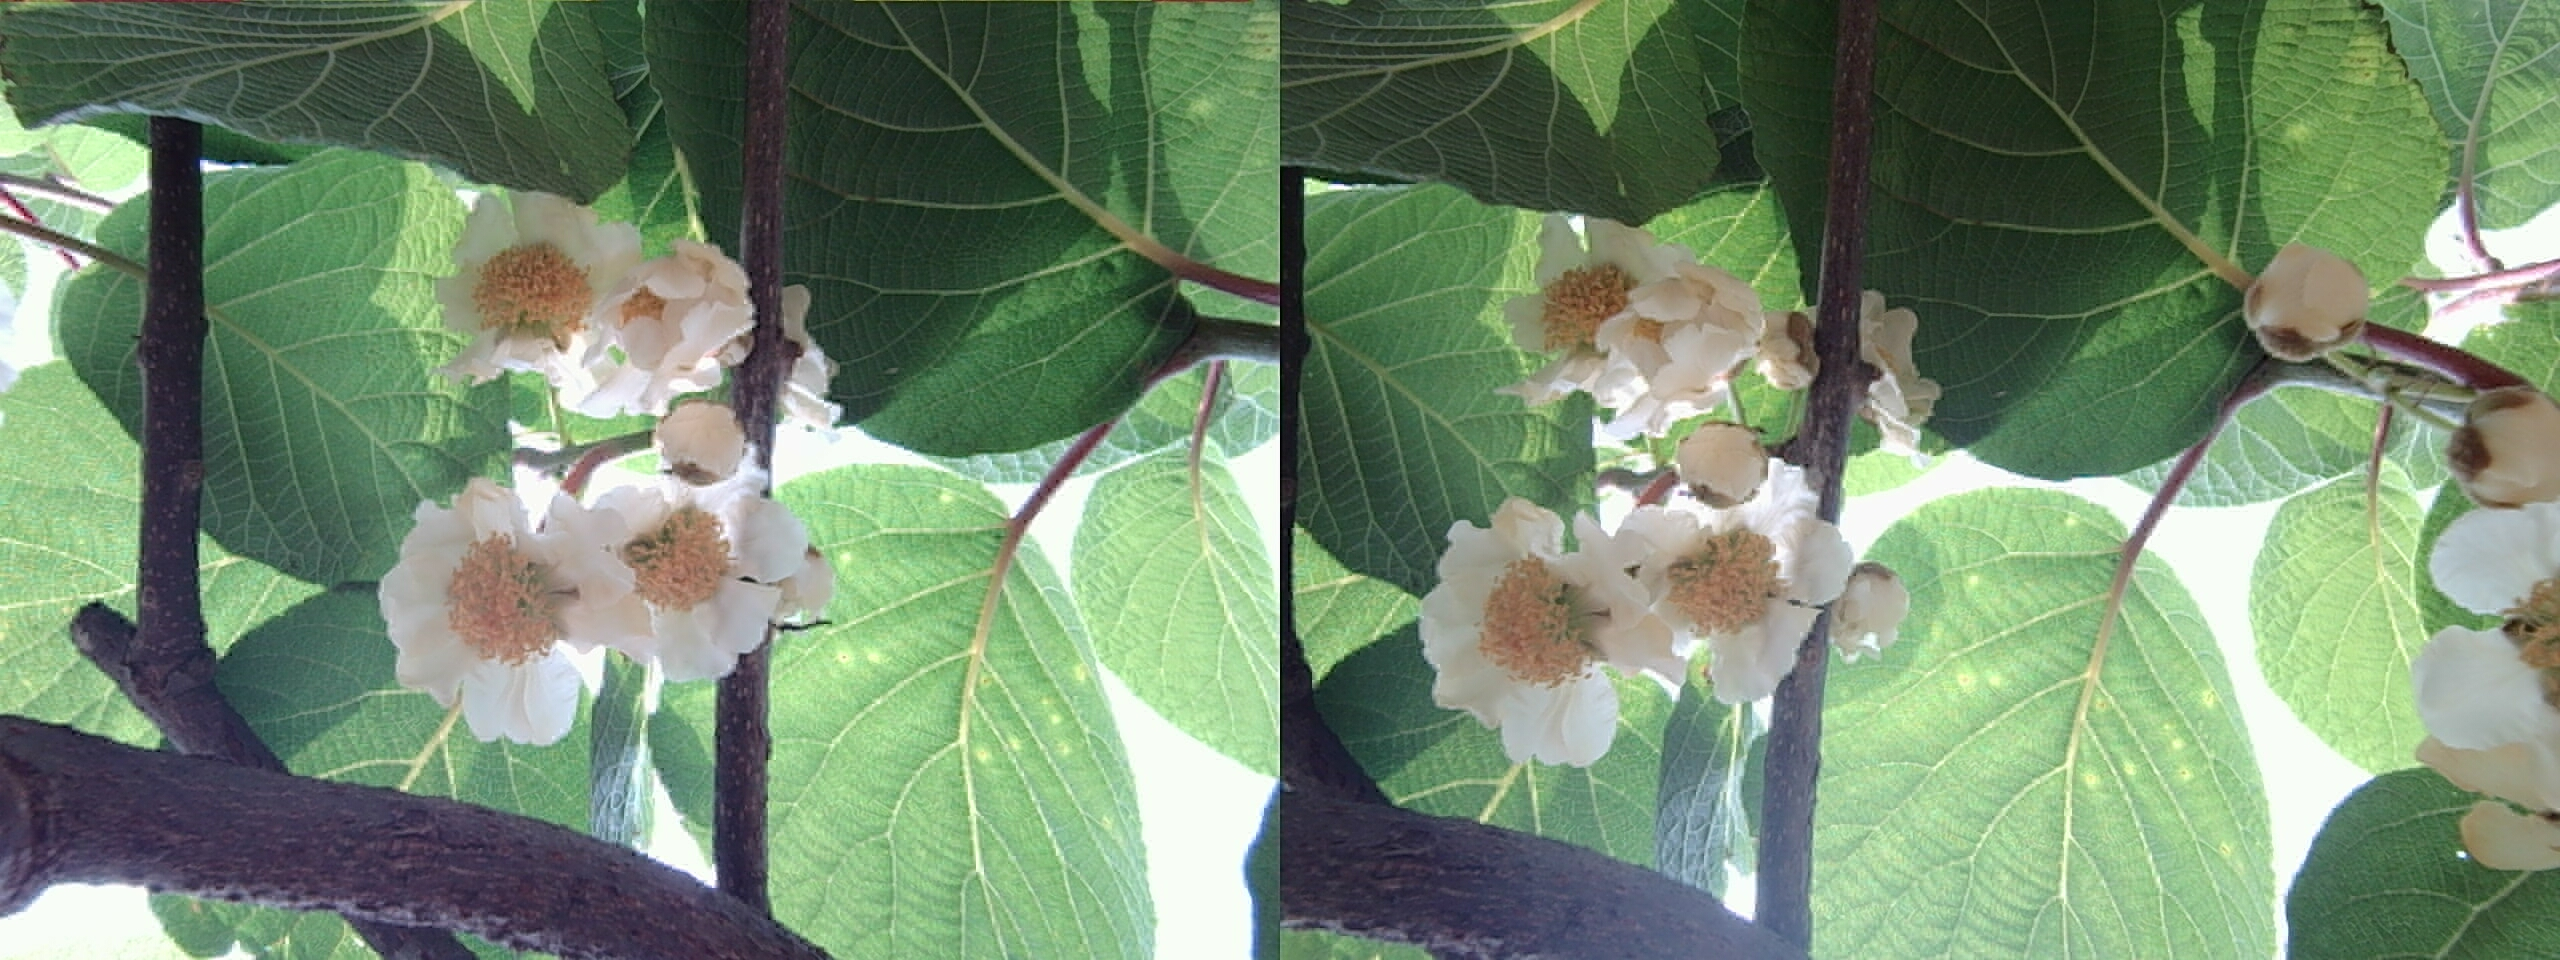flower: (372, 472, 624, 746), (1411, 501, 1644, 771), (1610, 460, 1858, 700), (568, 446, 820, 681), (1535, 240, 1776, 424), (434, 189, 627, 390), (567, 233, 753, 416), (655, 403, 751, 478), (1675, 426, 1767, 500)
